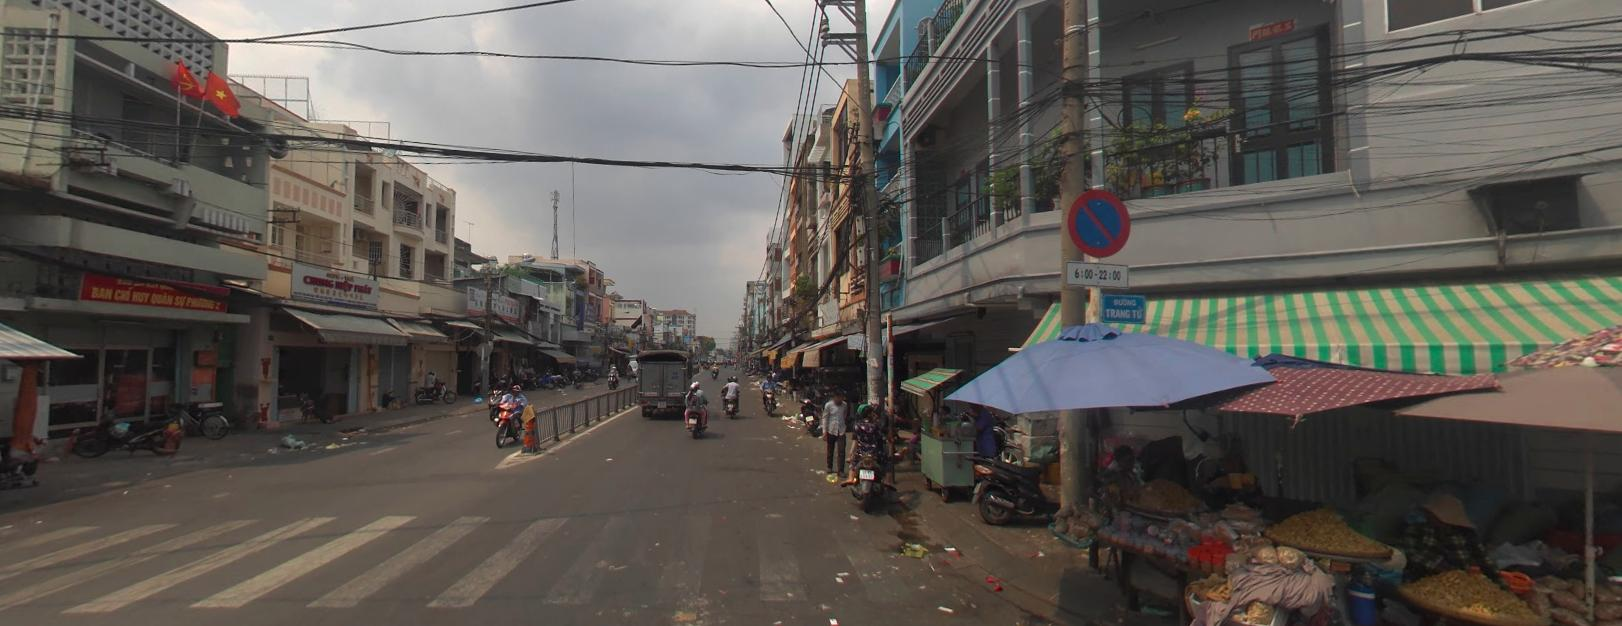Cam dung va do: (1068, 187, 1131, 258)
